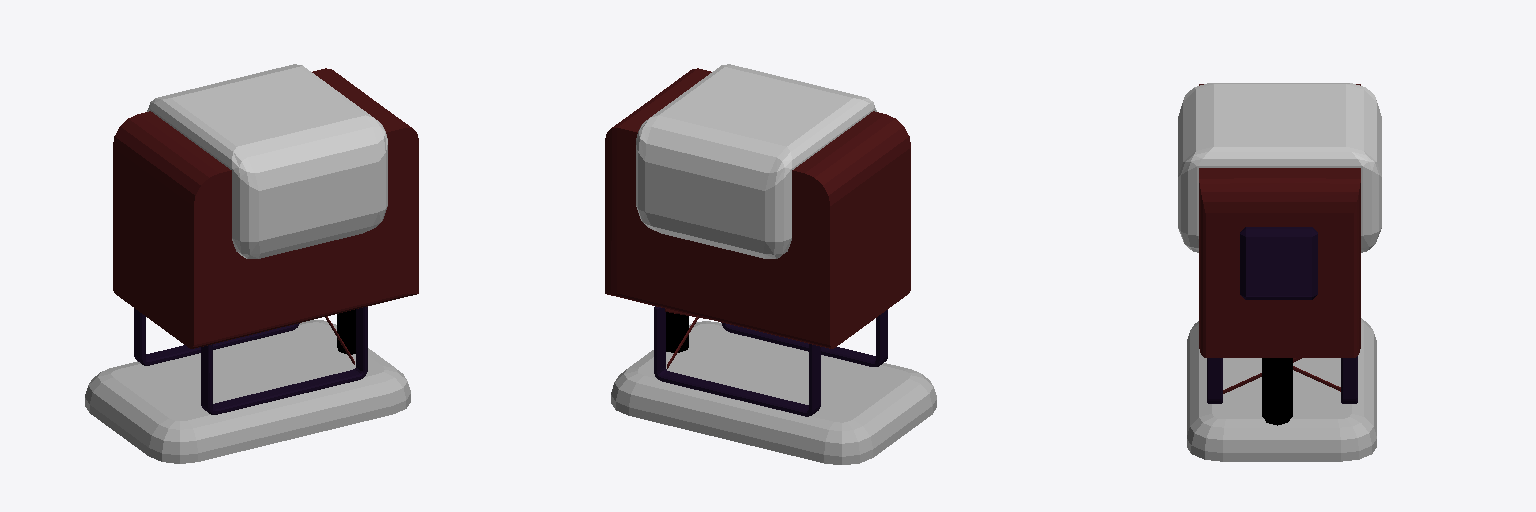
File: bathroom1.obj
3 views of the same model, side by side, from view 1: azimuth 30°, elevation 25°; view 2: azimuth 150°, elevation 25°; view 3: azimuth 270°, elevation 25° (orthographic).
Visible parts, largest first — view 1: Cube.018_Cube.019, Cube.019_Cube.020, Cutter.005_Cutter.015, Circle.003_Circle.004, Cylinder_Cylinder.002; view 2: Cube.018_Cube.019, Cube.019_Cube.020, Cutter.005_Cutter.015, Circle.003_Circle.004, Cylinder_Cylinder.002; view 3: Cube.018_Cube.019, Cube.019_Cube.020, Cutter.005_Cutter.015, Plane.013_Plane.014, Cylinder_Cylinder.002, Circle.003_Circle.004.
Boxes of the visible parts, <box> form: Cube.018_Cube.019: <box>113,68,418,348</box>; Cube.019_Cube.020: <box>147,64,387,258</box>; Cutter.005_Cutter.015: <box>85,320,410,463</box>; Circle.003_Circle.004: <box>134,307,367,414</box>; Cylinder_Cylinder.002: <box>337,309,355,354</box>; Cube.018_Cube.019: <box>605,68,910,348</box>; Cube.019_Cube.020: <box>636,64,876,258</box>; Cutter.005_Cutter.015: <box>611,321,936,464</box>; Circle.003_Circle.004: <box>654,306,887,416</box>; Cylinder_Cylinder.002: <box>666,312,688,352</box>; Cube.018_Cube.019: <box>1199,84,1360,357</box>; Cube.019_Cube.020: <box>1178,83,1381,252</box>; Cutter.005_Cutter.015: <box>1187,318,1376,461</box>; Plane.013_Plane.014: <box>1240,227,1317,299</box>; Cylinder_Cylinder.002: <box>1262,358,1292,425</box>; Circle.003_Circle.004: <box>1207,356,1357,403</box>.
Size of the model in its own units: 3.07 by 3.16 by 2.